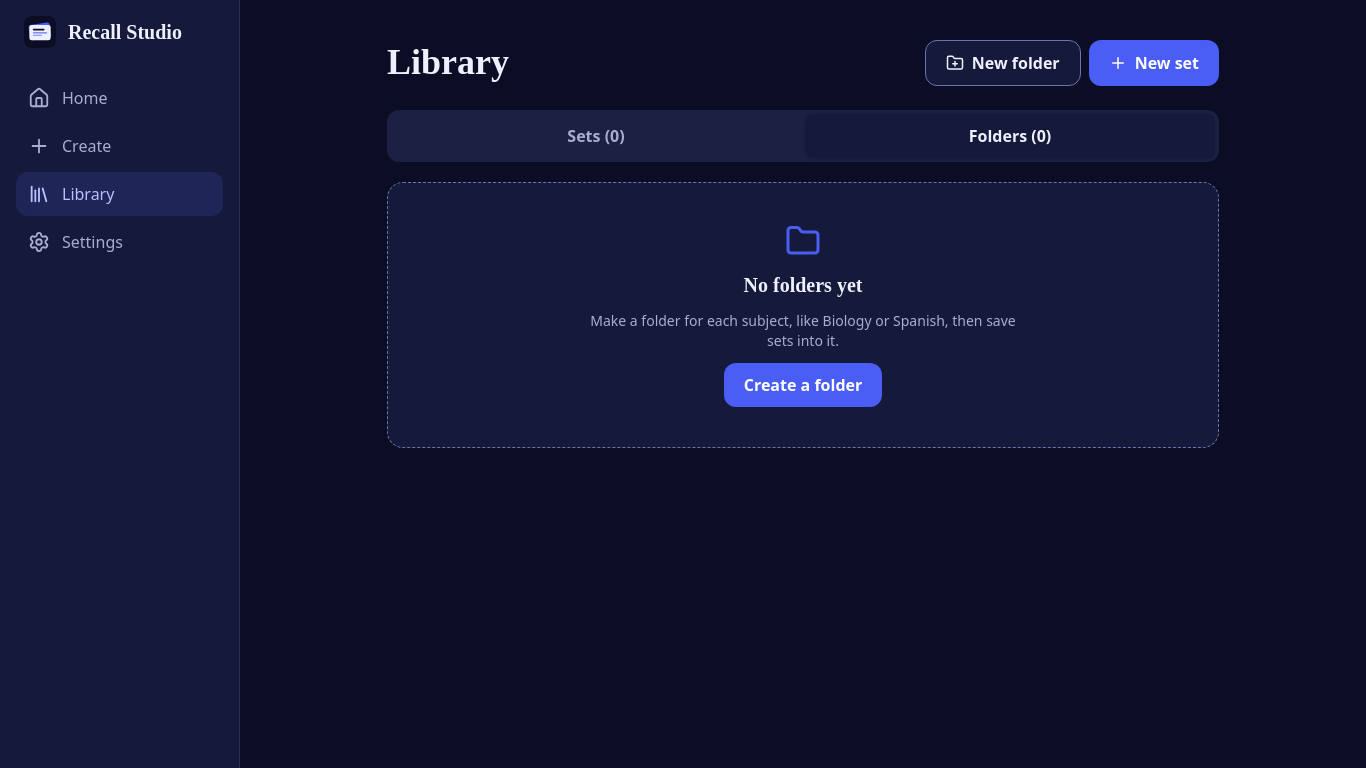
Test: Folders › creates a folder from the Library, validating the name
Click the button "New folder": (1003, 63) [925,40,1081,86]
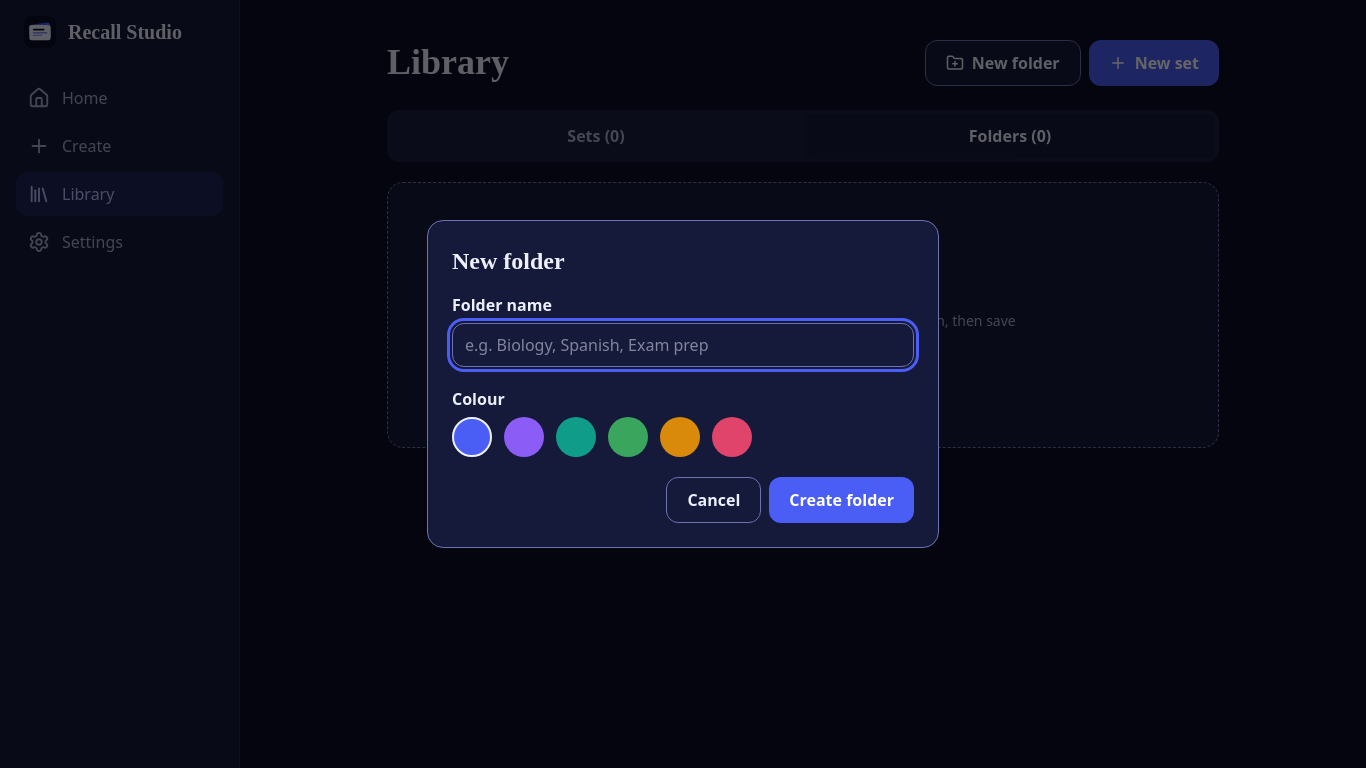
Click the button "Create folder": (842, 500) [769,477,914,523]
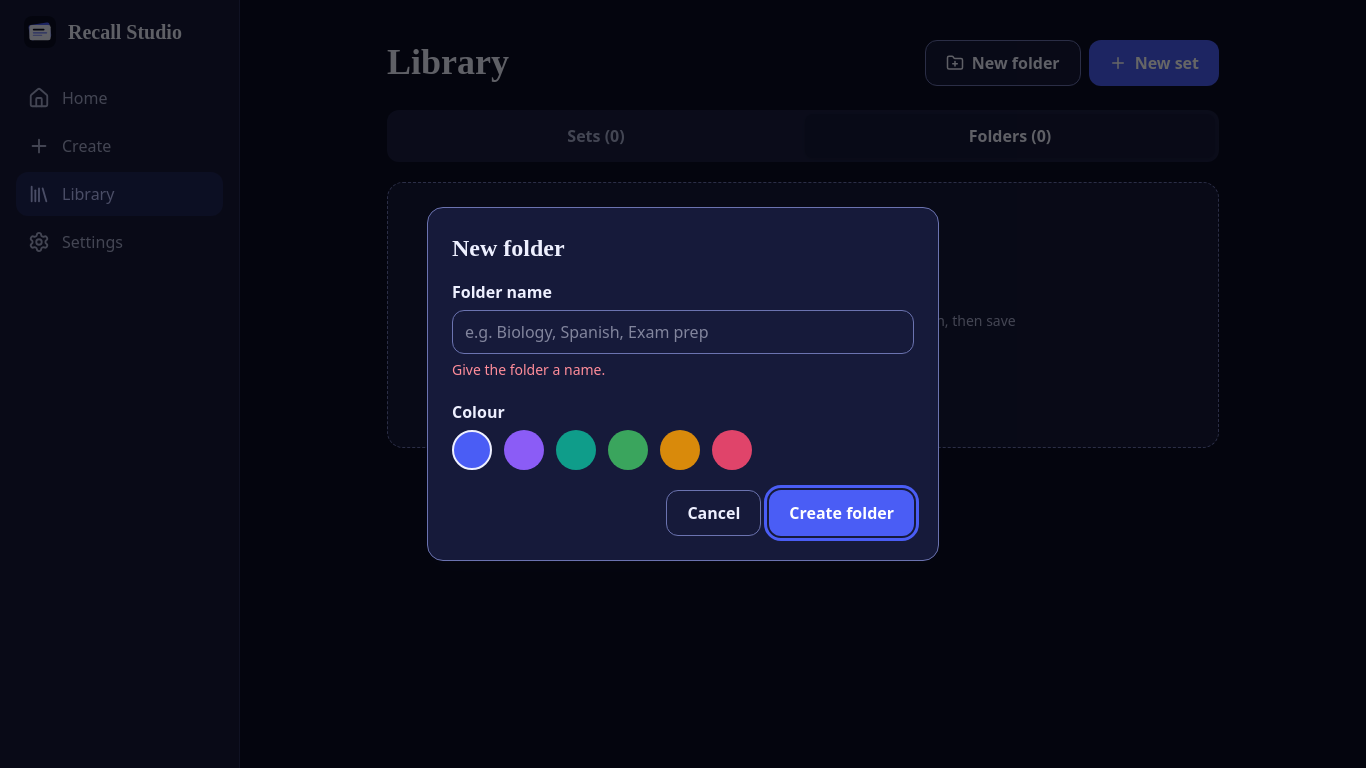
Now the message shows "Give the folder a name", box [452,360,605,379]
In the field labelled "Folder name": (683, 332) [452,310,914,354], type "Biology"
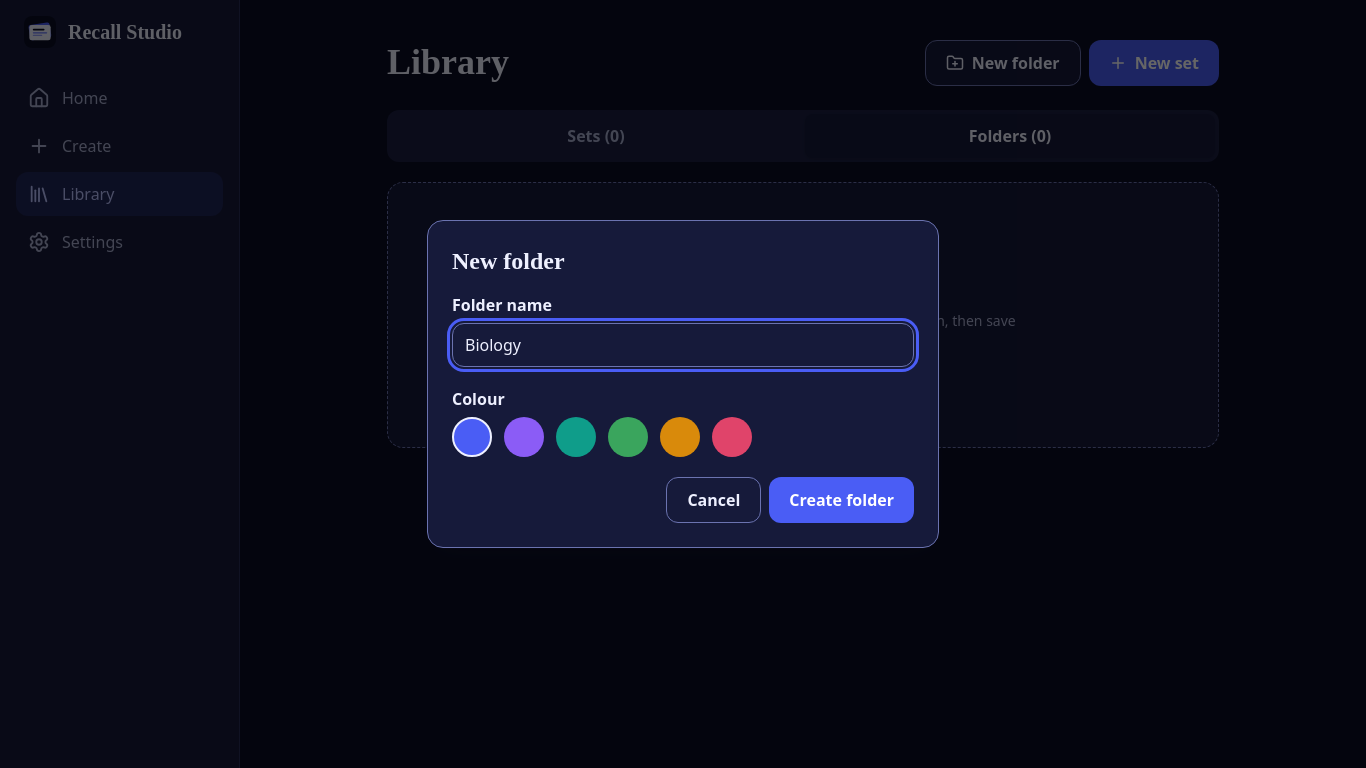
Click the radio button named "rose": (732, 437) [712,417,752,457]
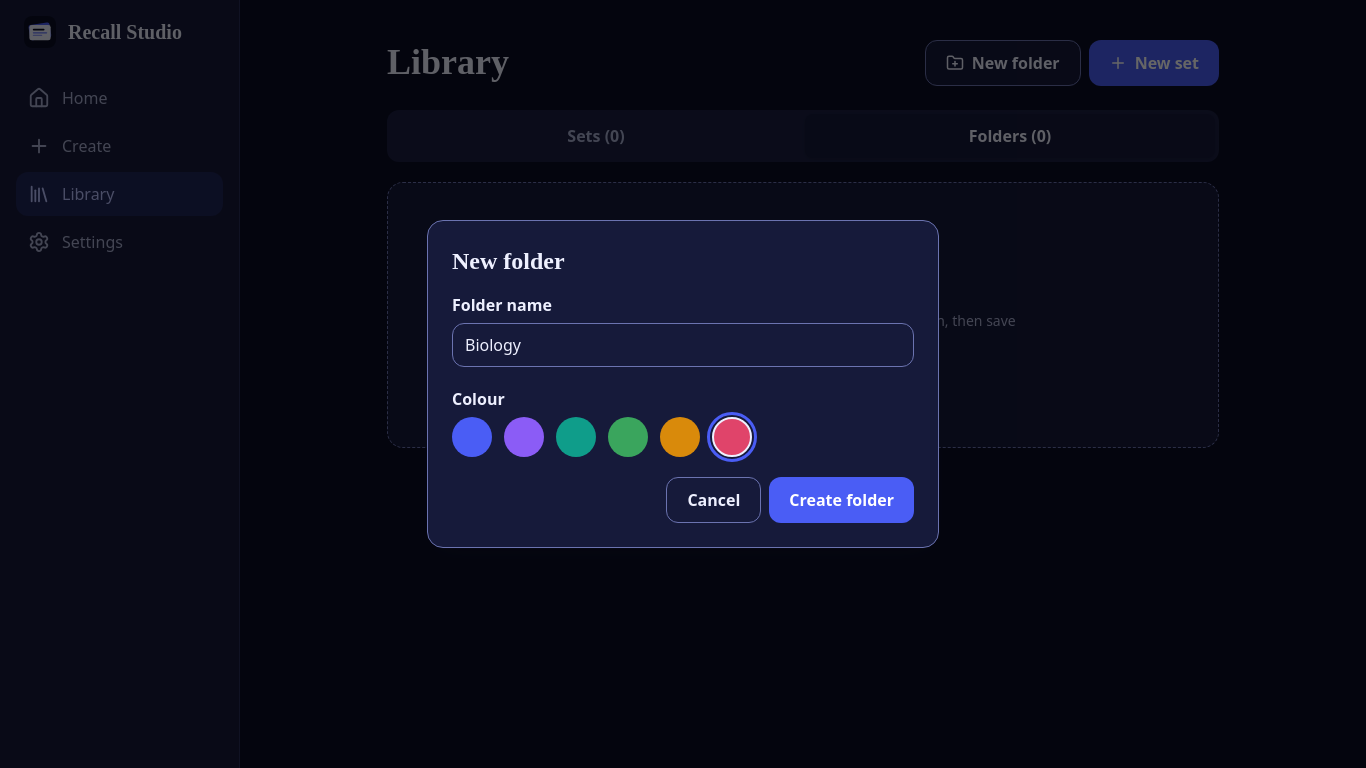
Click the button "Create folder": (842, 500) [769,477,914,523]
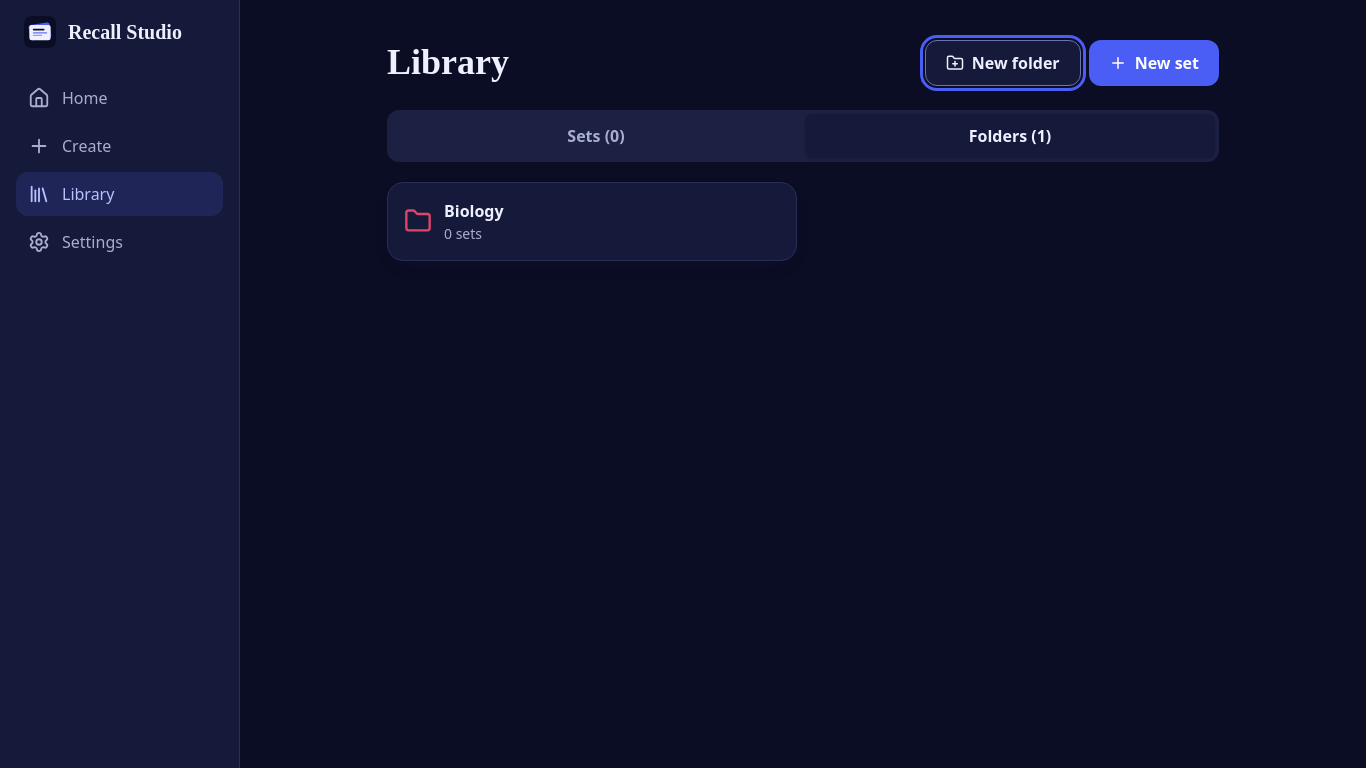
Now the link "Biology 0 sets" is shown, box [387,182,797,261]
